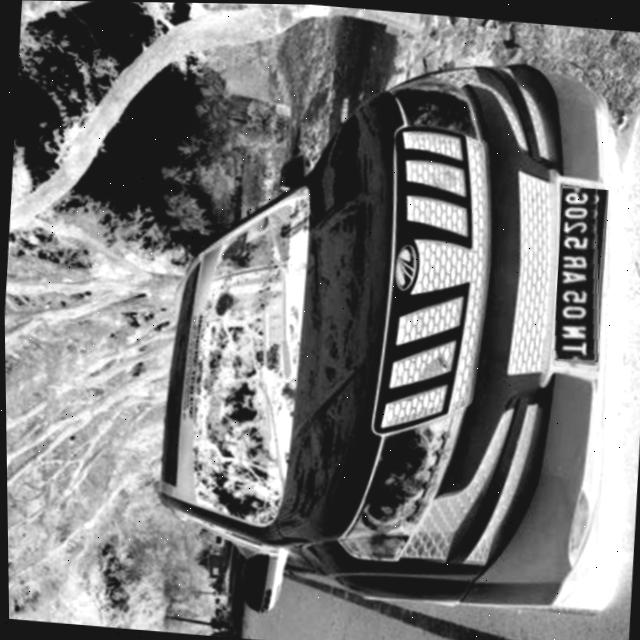Non_registered: (550, 183, 610, 360)
